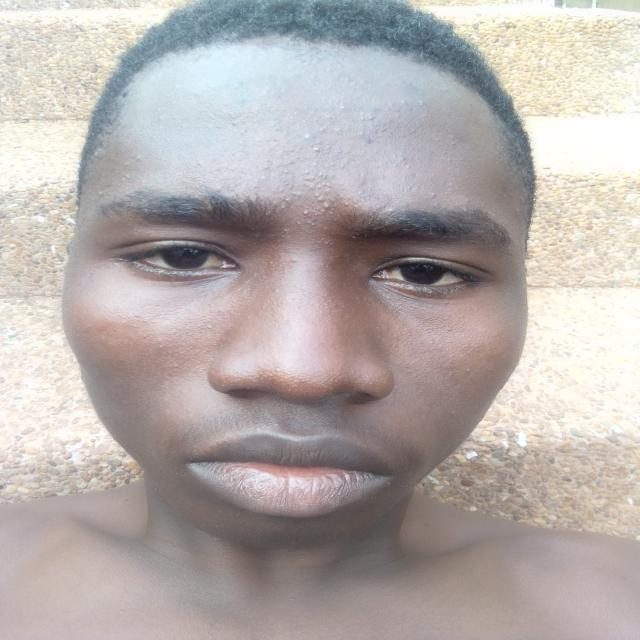Acne: (273, 144, 337, 237), (296, 104, 347, 140), (392, 98, 429, 141), (356, 104, 389, 148), (118, 154, 143, 184), (394, 152, 415, 176), (250, 157, 272, 176), (288, 255, 302, 266), (96, 188, 104, 200)
